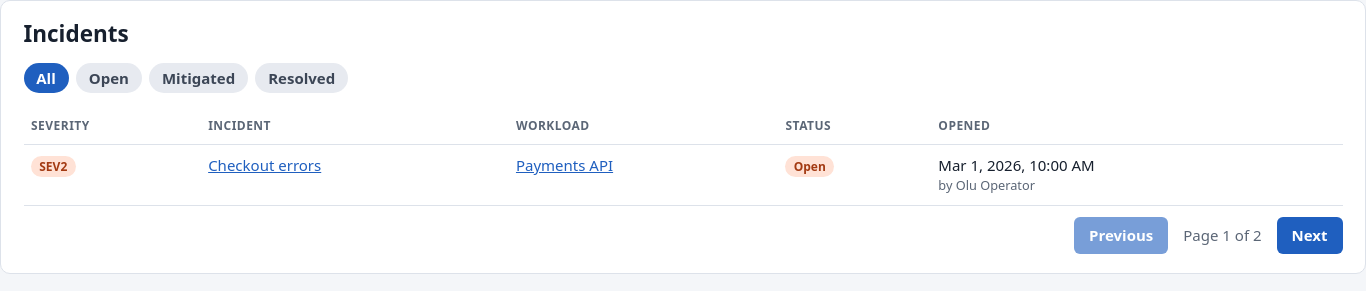
Test: IncidentsPage › filters by status and pages through results
expect the text "Page 1 of 2" is shown: met, box [1183,224,1262,247]
Click the button "Next": coordinates (1310, 236) [1276,217,1342,254]
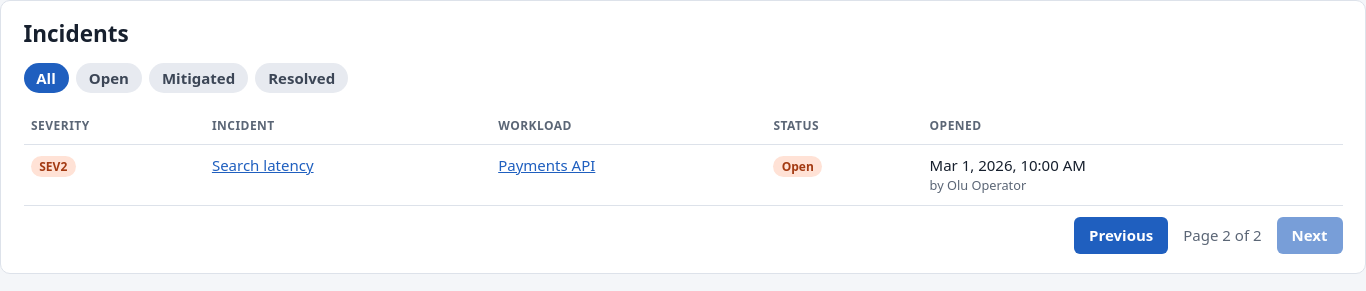
expect the link "Search latency" is shown: met, box [212,155,314,175]
Click the button "Mitigated": coordinates (199, 78) [149,63,248,93]
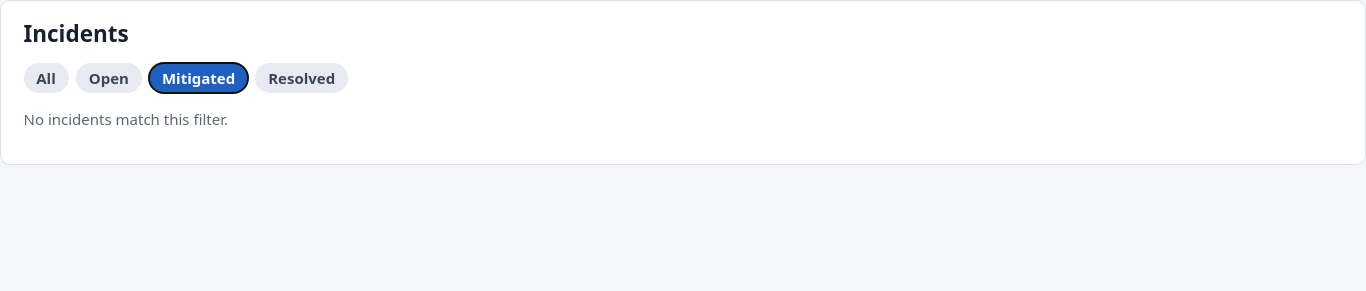
expect the text "No incidents match this filter." is shown: met, box [24,109,228,129]
